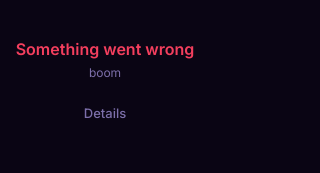
Test: ErrorState primitive › toggles details on click
Expected: the text "at line 1" is not shown
Click the button "Details" at (105, 113), box [68,97,142,129]
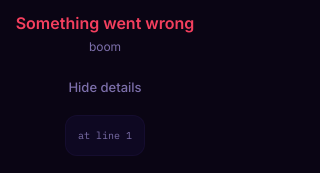
Expected: the text "at line 1" is shown, [65,114,145,156]
